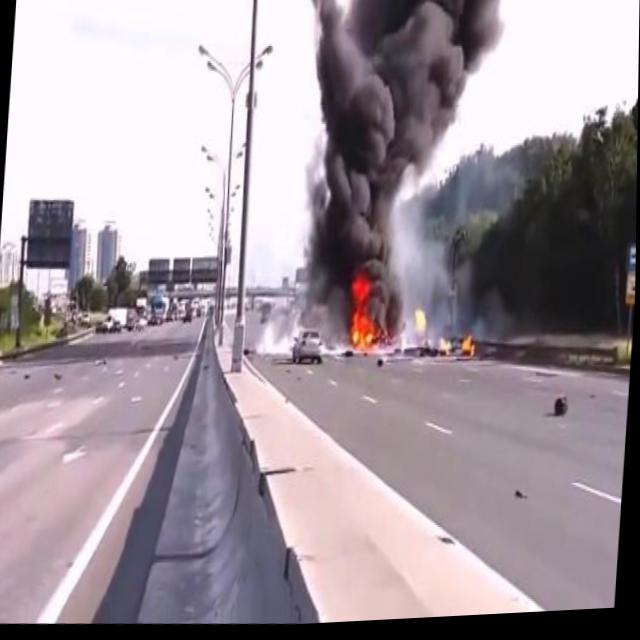fire: (343, 268, 412, 366), (413, 309, 431, 341), (460, 340, 479, 367), (436, 340, 453, 361)
